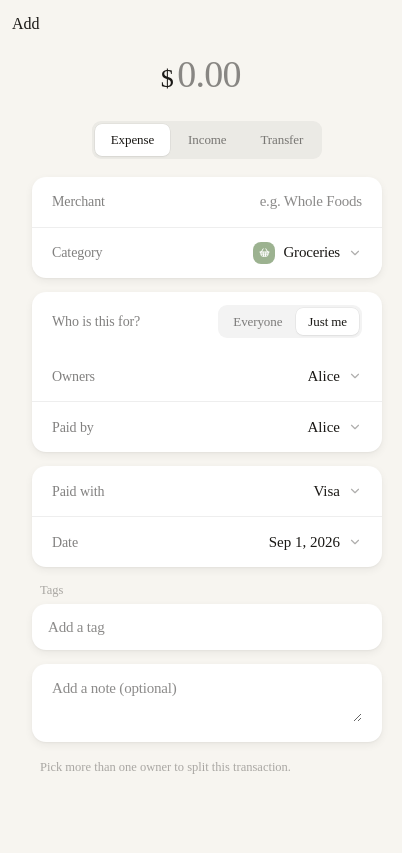
Test: split editor › removing the second owner returns to a single full-amount owner
This screenshot has width=402, height=853.
In the field with class "ow-amount-input": (215, 74) [177,46,253,103], type "100"
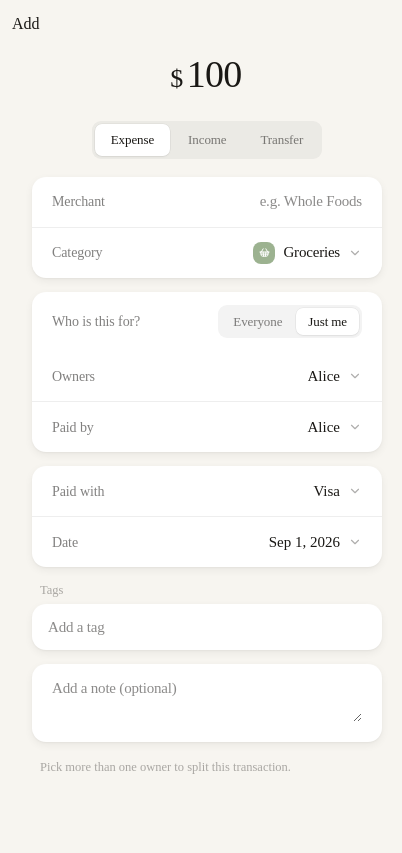
In the field with placeholder "e.g. Whole Foods": (263, 202) [164,190,362,213], type "Dinner"
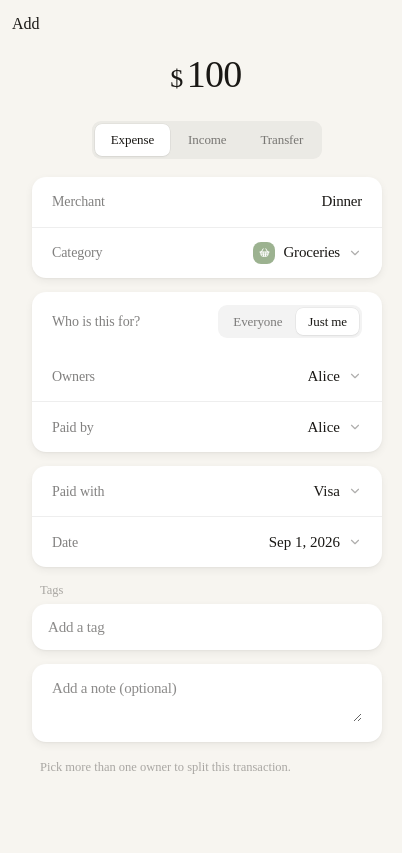
Click the button "Owners Alice": (73, 376) [32,351,382,401]
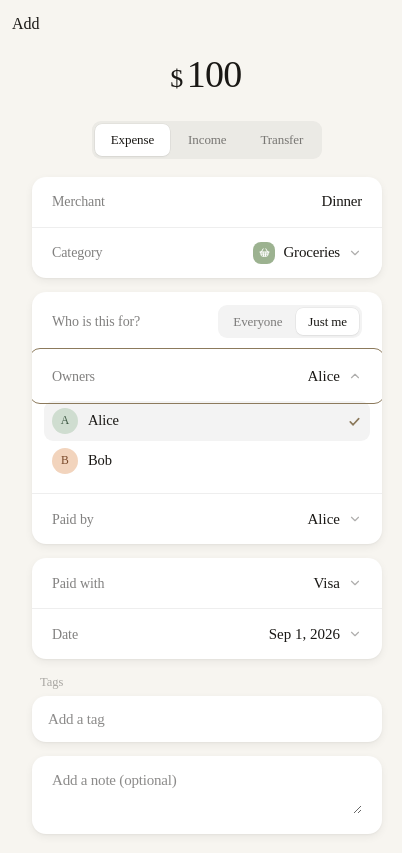
Click the button "B Bob": (65, 461) [44,441,370,481]
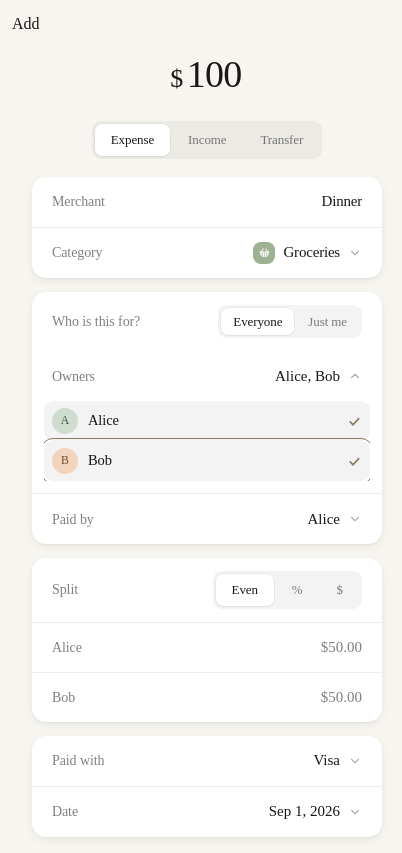
Click the button "B Bob": (65, 461) [44,441,370,481]
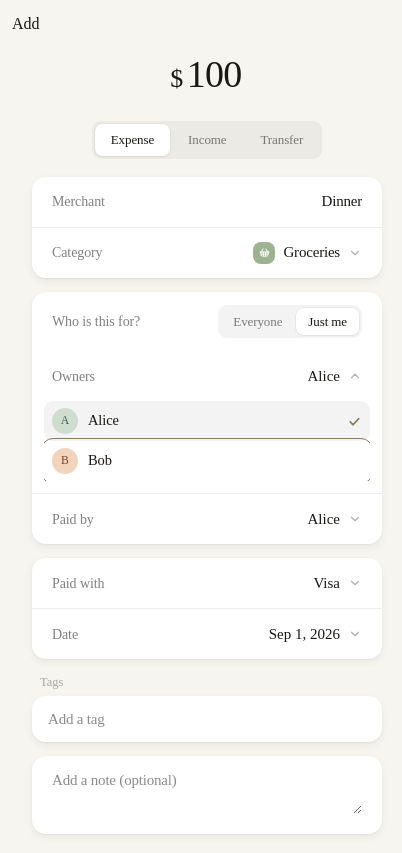
Result: the tab "Even" is gone
